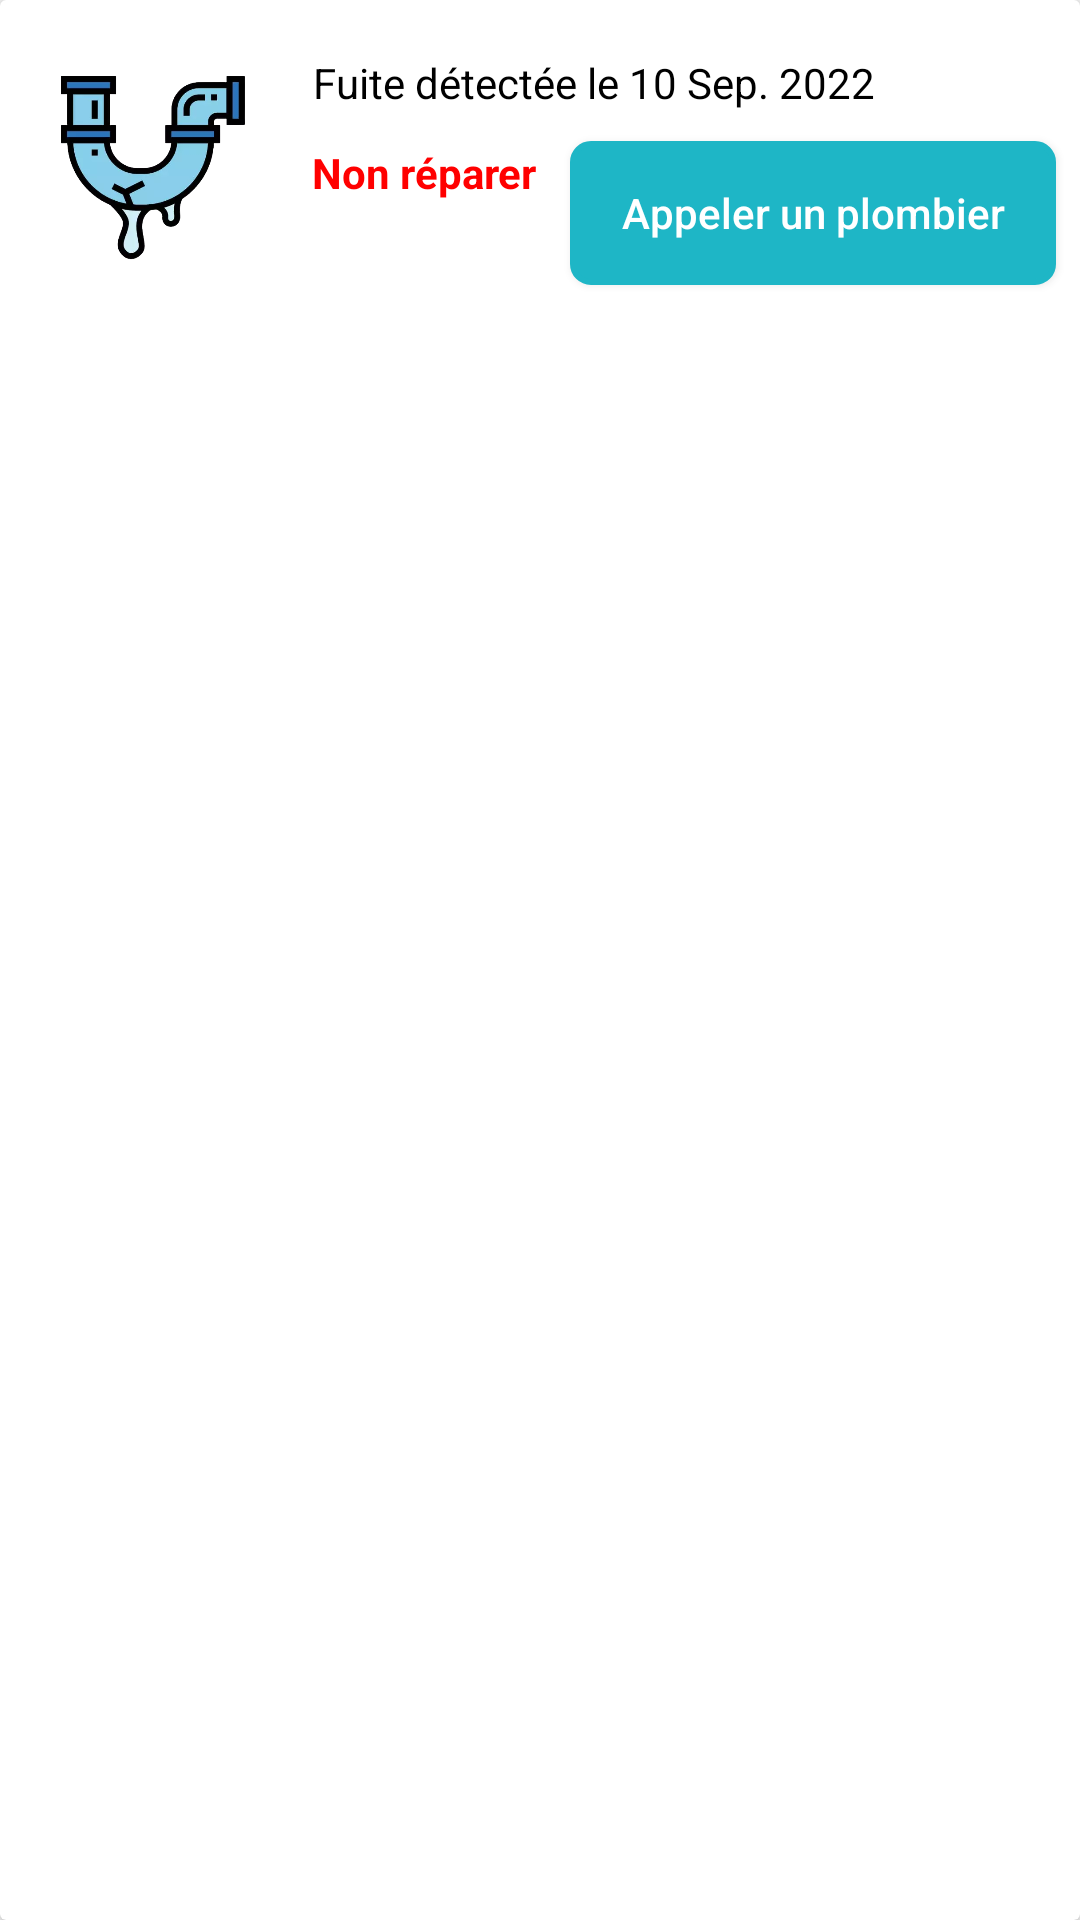

Point at icon controls on the screen. Image size 1080×1920, points as (x,y).
signaler fuite: (153,167)
